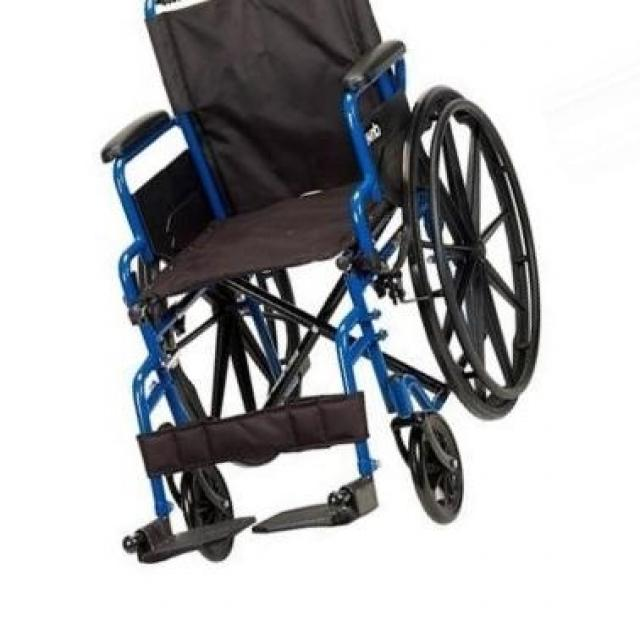wheelchair: (68, 0, 540, 574)
